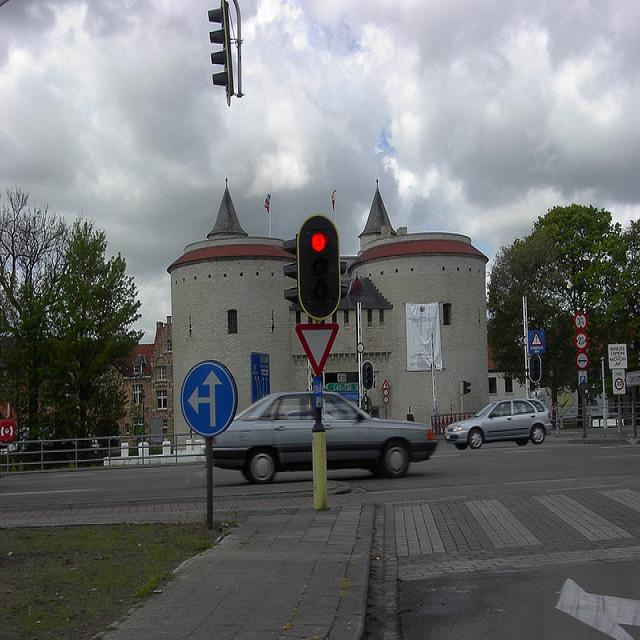Vehicle: (213, 390, 438, 485), (444, 399, 552, 452)
